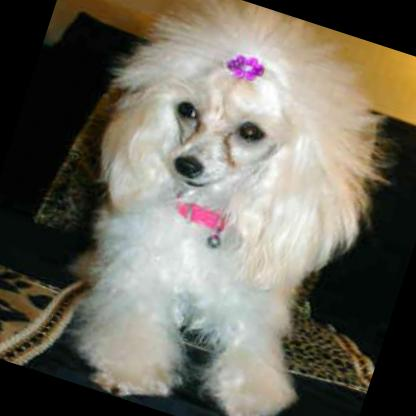toy_poodle: (17, 0, 416, 416)
